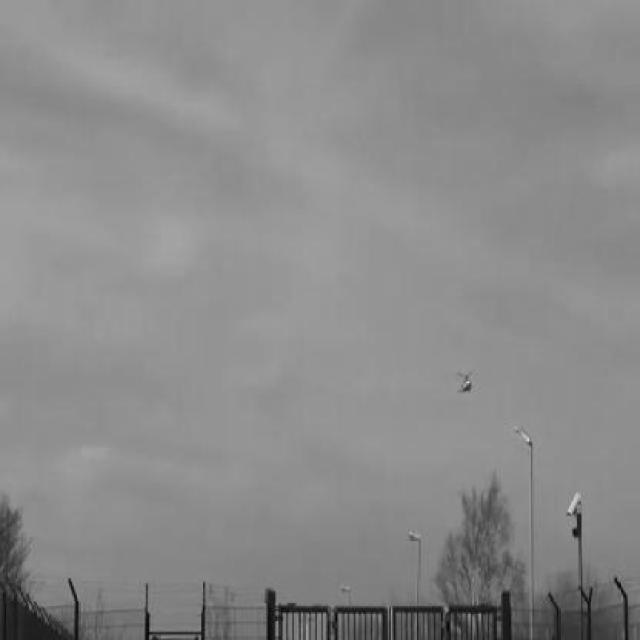helikopter: (456, 369, 473, 394)
